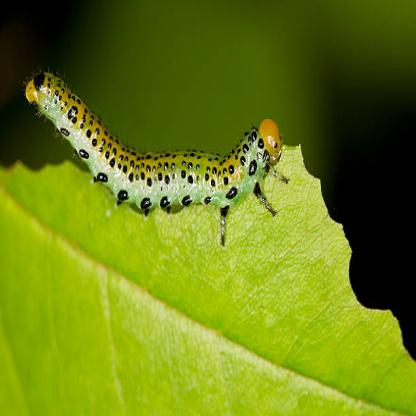sawfly: (24, 64, 293, 244)
